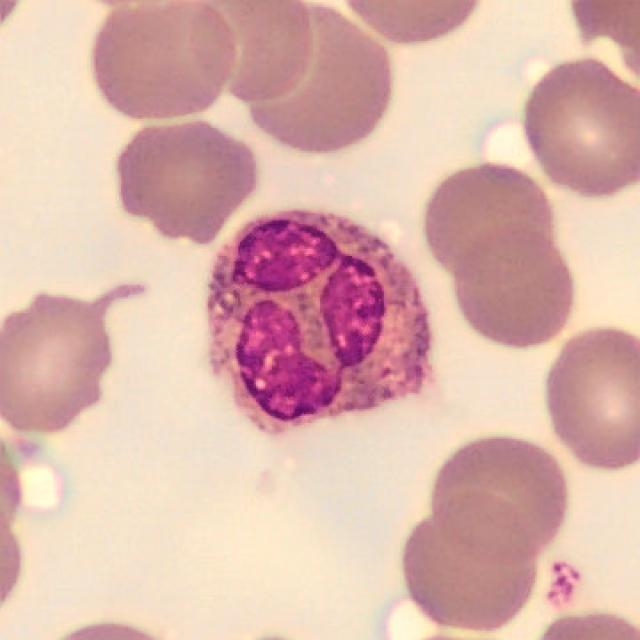Neutrofilo segmentado: (206, 212, 432, 428)
